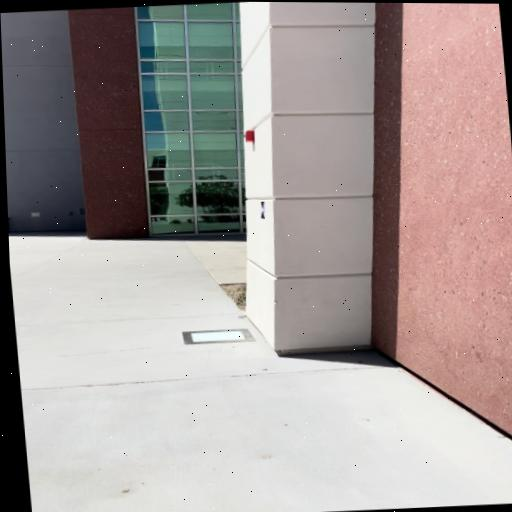target6: (259, 202, 266, 219)
